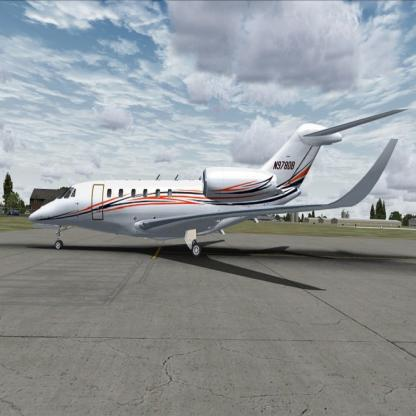CIV_Plane: (23, 103, 412, 266)
